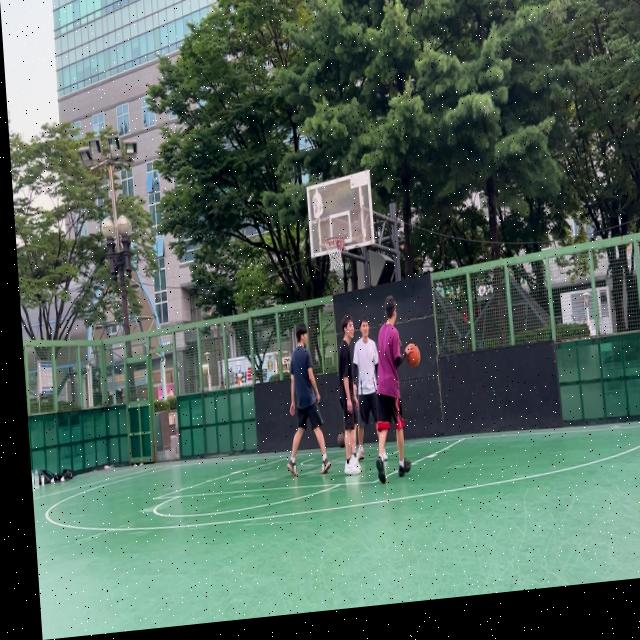basketball: (405, 343, 421, 368), (337, 431, 346, 448)
hoop: (325, 235, 347, 273)
